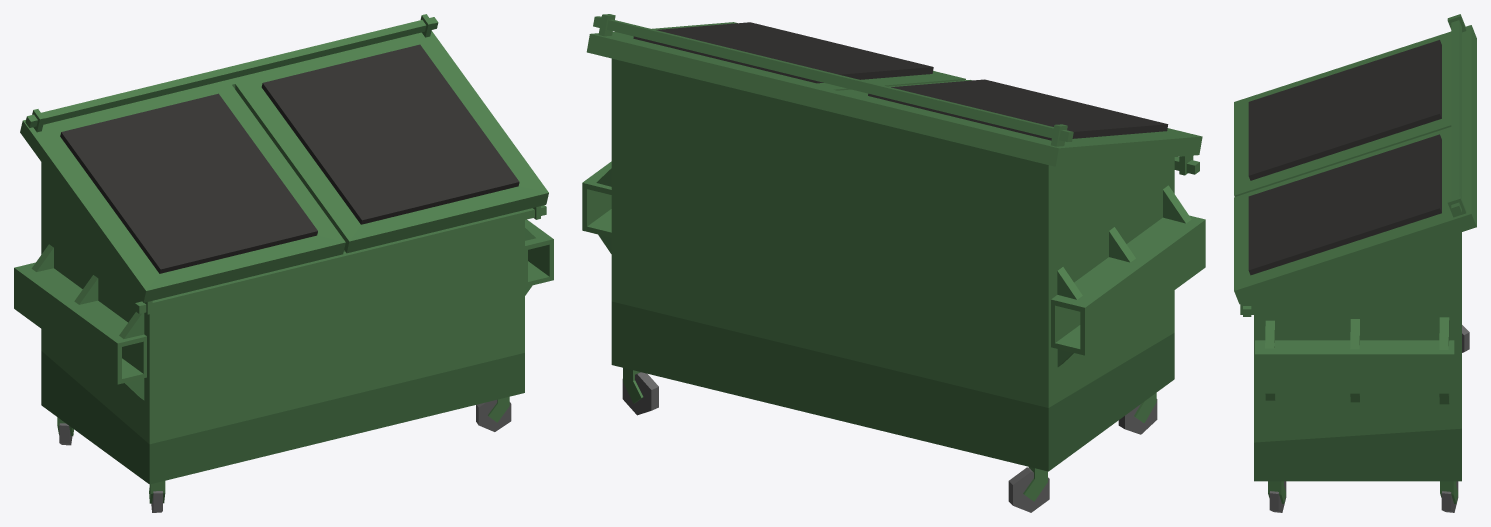
The model's file is Trash_Big.fbx.
3 renders of one model, left to right at view 1: azimuth 30°, elevation 25°; view 2: azimuth 150°, elevation 25°; view 3: azimuth 270°, elevation 25°, orthographic. The views are drawn at different scales.
Visible parts, largest first — view 1: Trash_Big; view 2: Trash_Big; view 3: Trash_Big.
Part boxes in pixels (x1,y1,x2,y2): Trash_Big: (14, 14, 553, 512); Trash_Big: (582, 14, 1205, 512); Trash_Big: (1234, 14, 1476, 512).
Bounding box in the file's own units: 240 × 180 × 121.
1 material, 1 textured.
